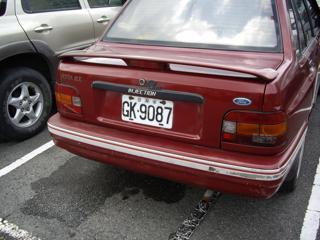plate: (119, 92, 174, 129)
